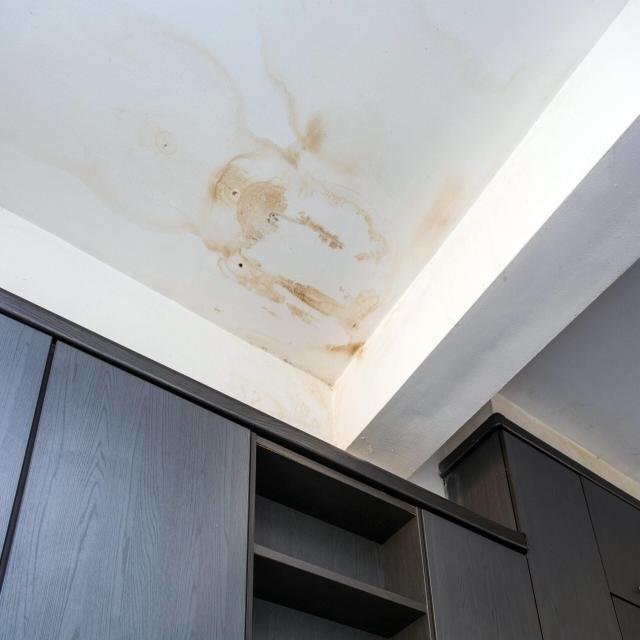wall_stain: (272, 380, 356, 447)
